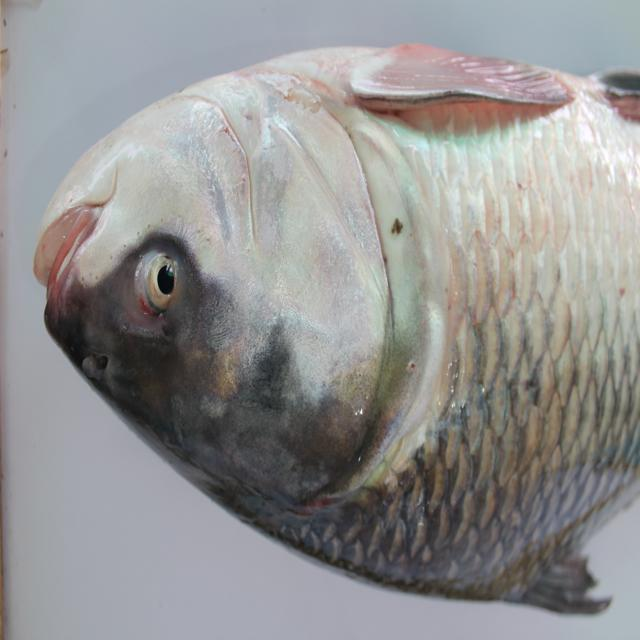Catla: (26, 44, 640, 622)
